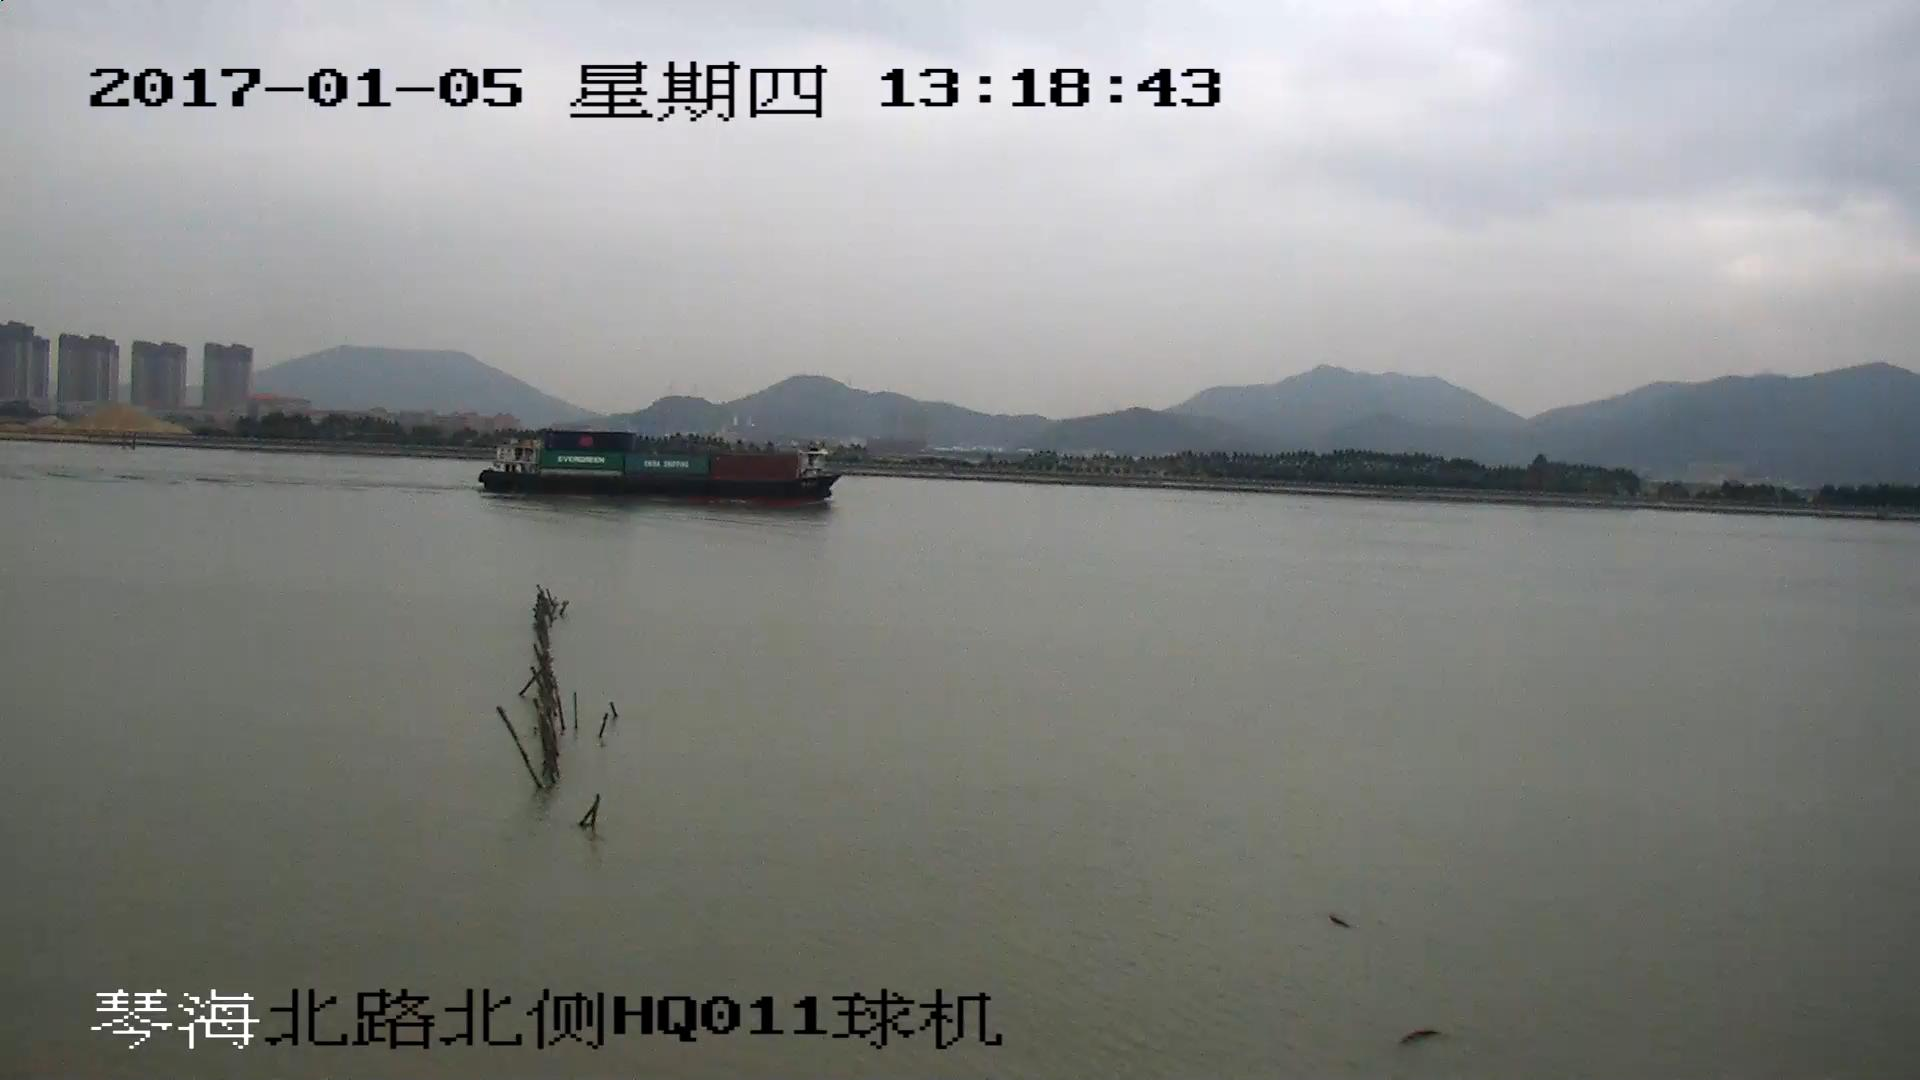container ship: (480, 429, 841, 505)
